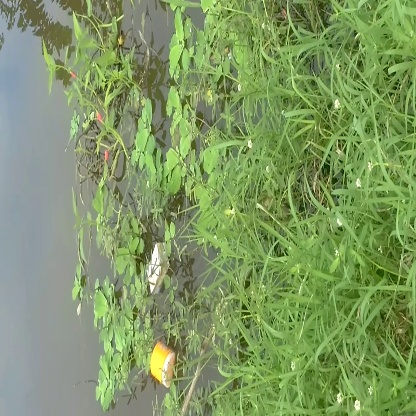bottle: (148, 339, 177, 386)
milk-box: (139, 240, 178, 297)
